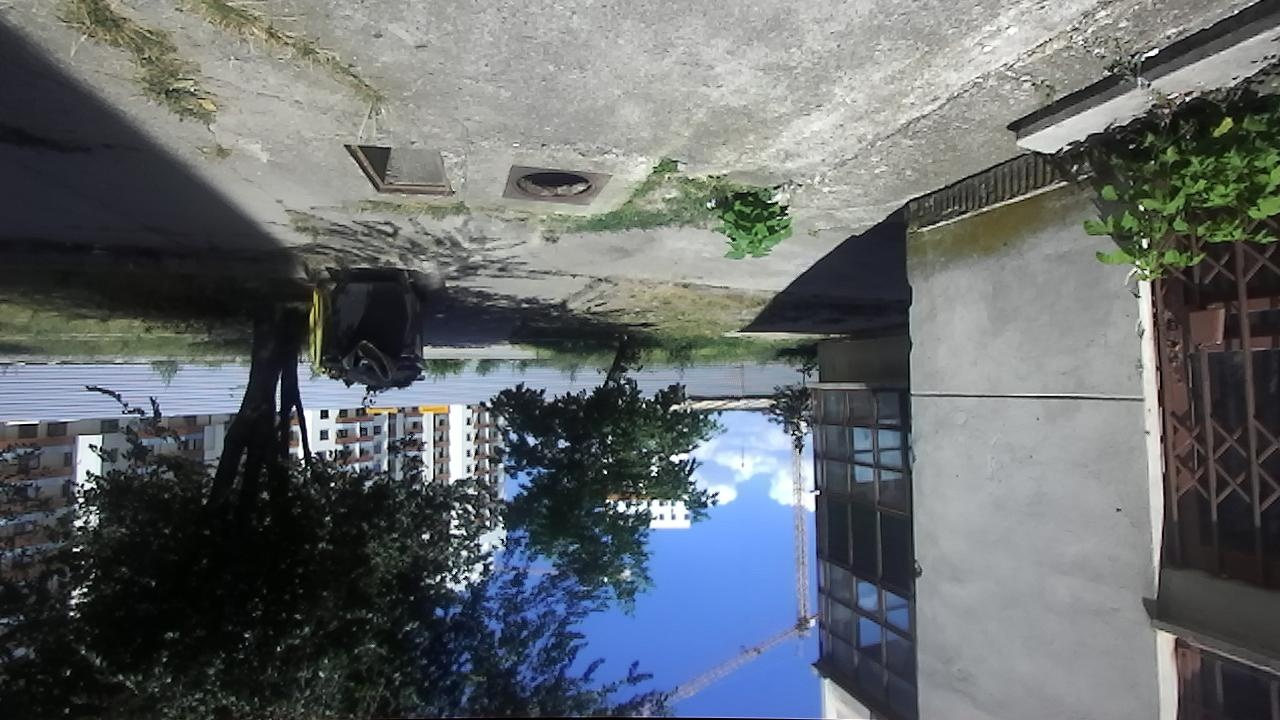drain: (339, 135, 460, 204), (514, 167, 600, 201)
